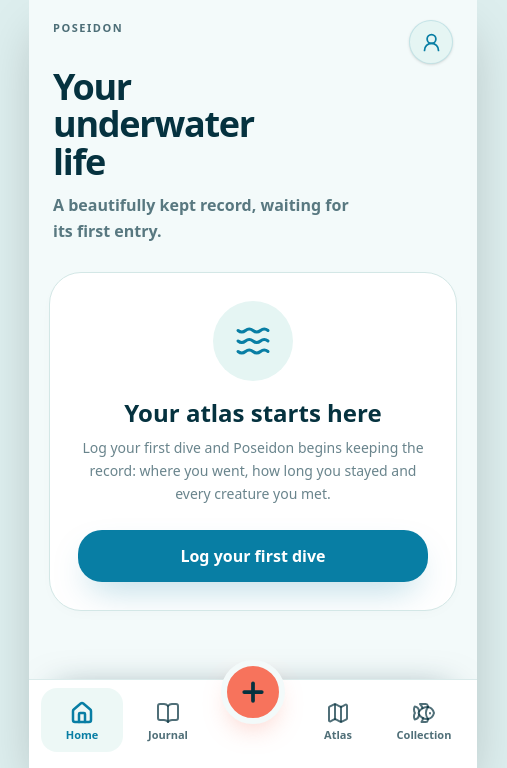
the phone shell › hides the bottom navigation while the full-screen logging flow is open
expect the navigation bar named "Main" is shown: met, box 29,679 -> 477,767
Click the button named "Log a dive": (253, 692) 221,660 -> 285,724
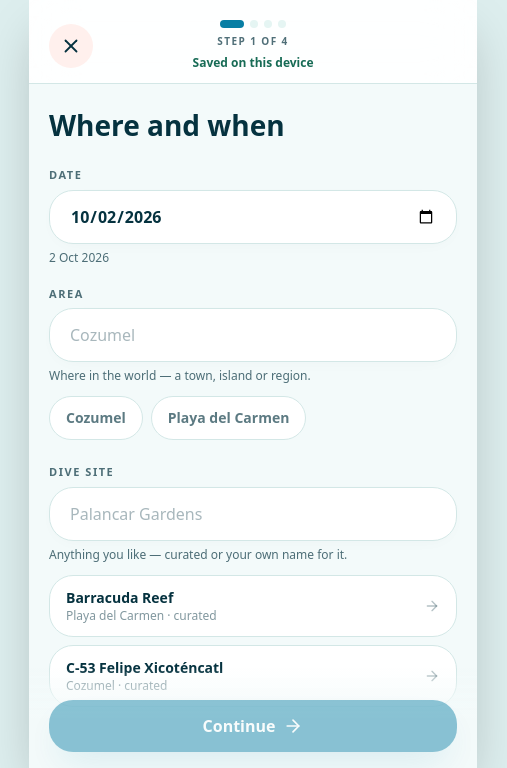
expect the navigation bar "Home Journal Atlas Collection" is gone: met
Click the button named "Close, keep draft": (71, 46) 49,24 -> 93,68
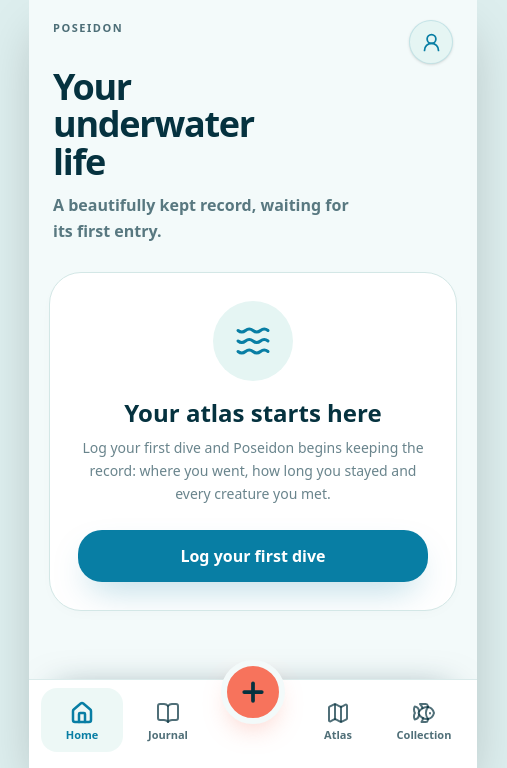
expect the navigation bar named "Main" is shown: met, box 29,679 -> 477,767
